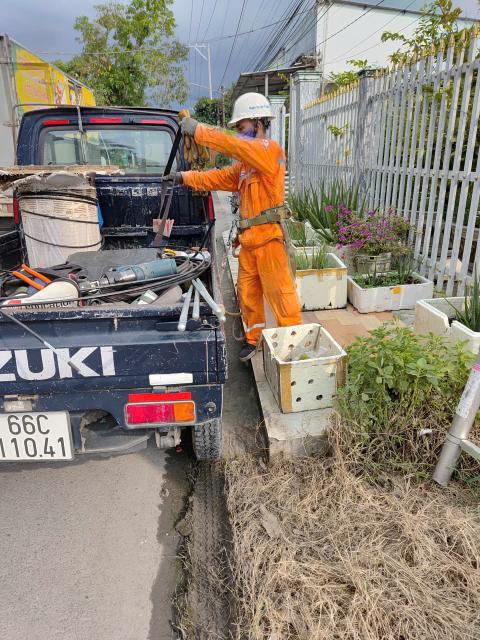gloves: (173, 112, 207, 142), (159, 163, 192, 189)
harness: (233, 206, 298, 228)
helmet: (225, 88, 279, 131)
shoes: (231, 324, 268, 365)
